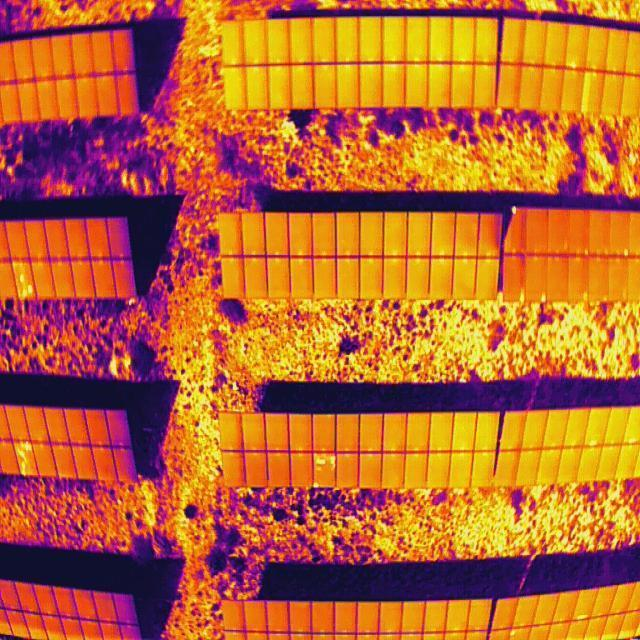diode: (581, 71, 592, 115)
hotspot: (12, 261, 34, 299), (316, 452, 334, 488), (16, 441, 32, 476), (566, 59, 578, 70), (520, 288, 526, 302)
